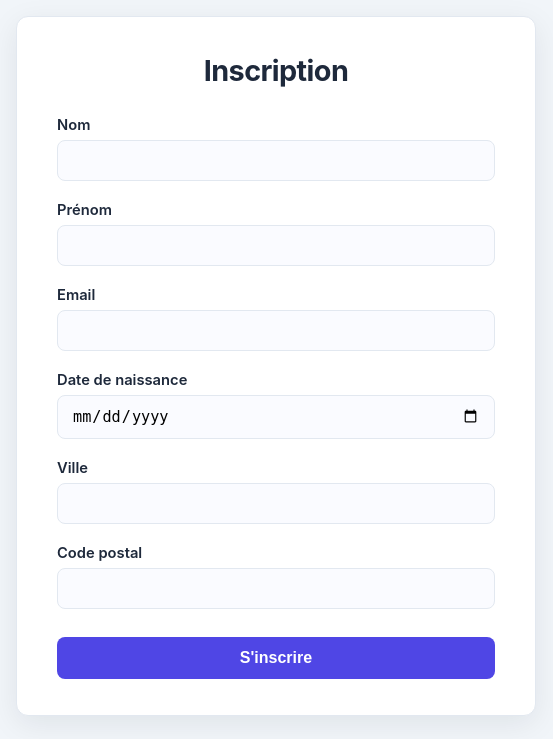
RegisterForm › Soumission avec données valides › affiche le message de succès
This screenshot has width=553, height=739.
In the field labelled "Nom": (276, 160) [57, 140, 495, 181], type "Dupont"
In the field labelled "Prénom": (276, 246) [57, 225, 495, 266], type "Jean"
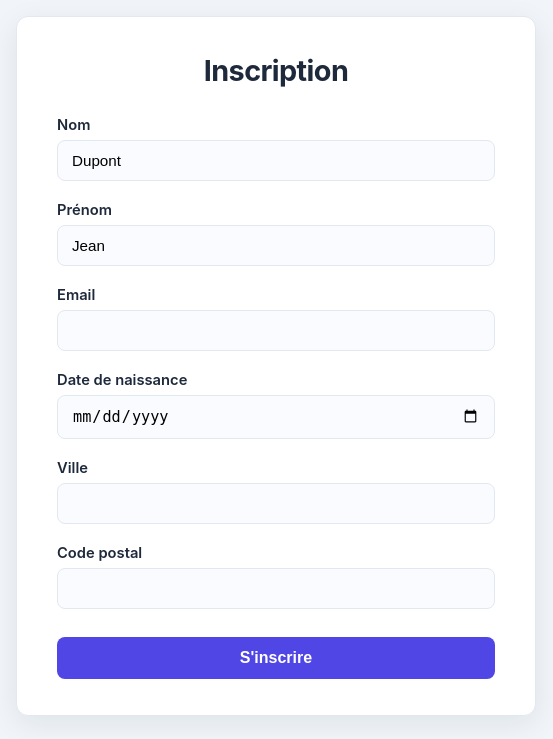
In the field labelled "Email": (276, 330) [57, 310, 495, 351], type "jean.dupont@example.com"
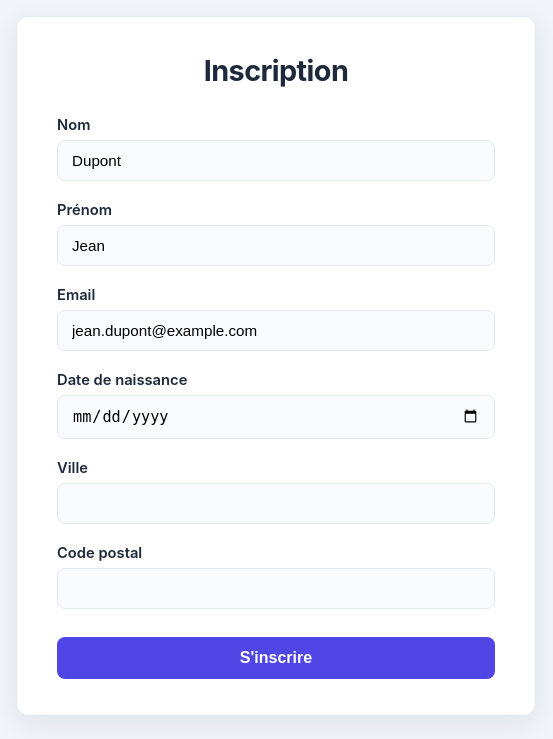
In the date field labelled "Date de naissance": (276, 417) [57, 395, 495, 439], type "1995-06-15"
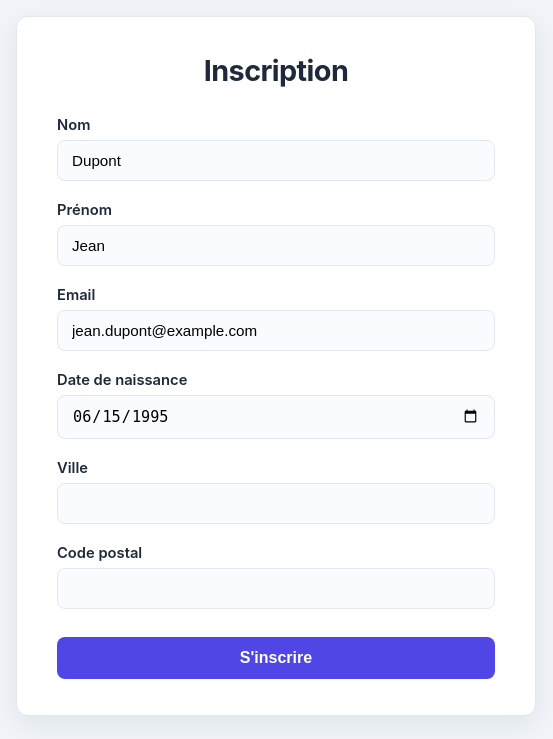
In the field labelled "Ville": (276, 504) [57, 483, 495, 524], type "Paris"
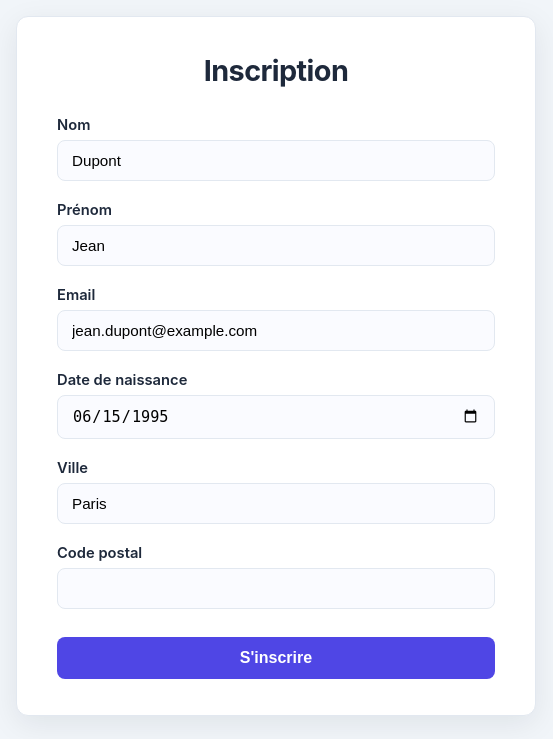
In the field labelled "Code postal": (276, 588) [57, 568, 495, 609], type "75001"
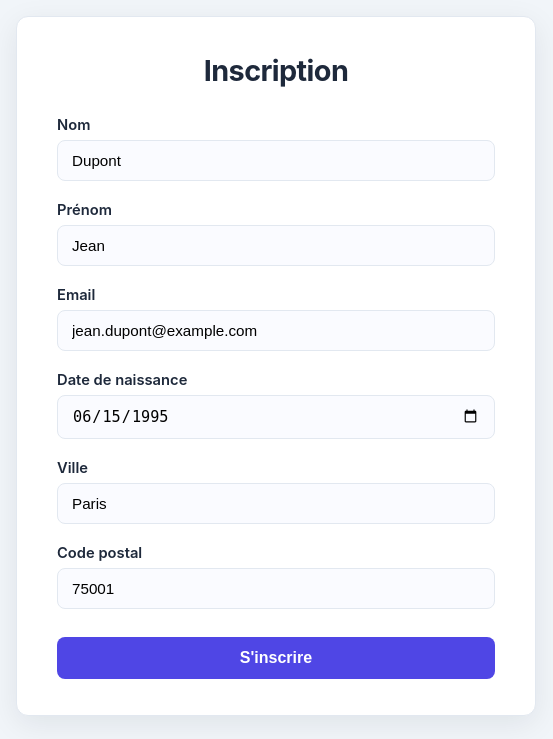
Click the button "S'inscrire": (276, 658) [57, 637, 495, 679]
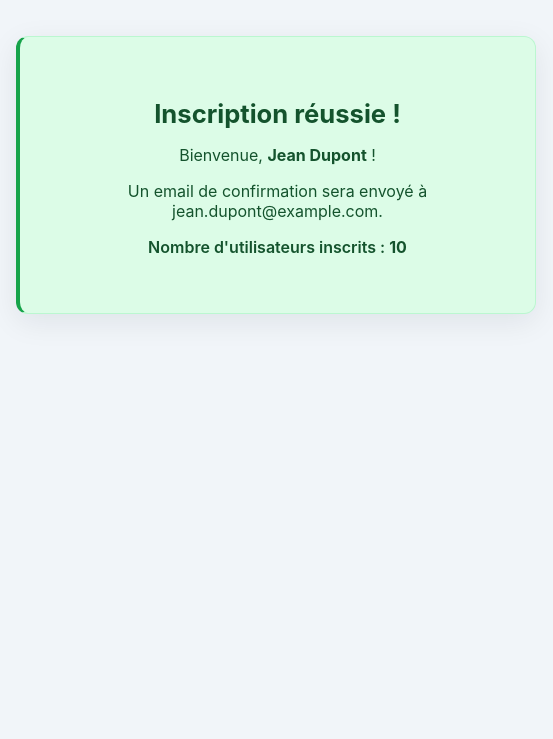
Result: the element with test id "success-message" is shown at [16, 36, 536, 314]
Result: the heading "Inscription réussie !" is shown at [154, 98, 401, 129]
